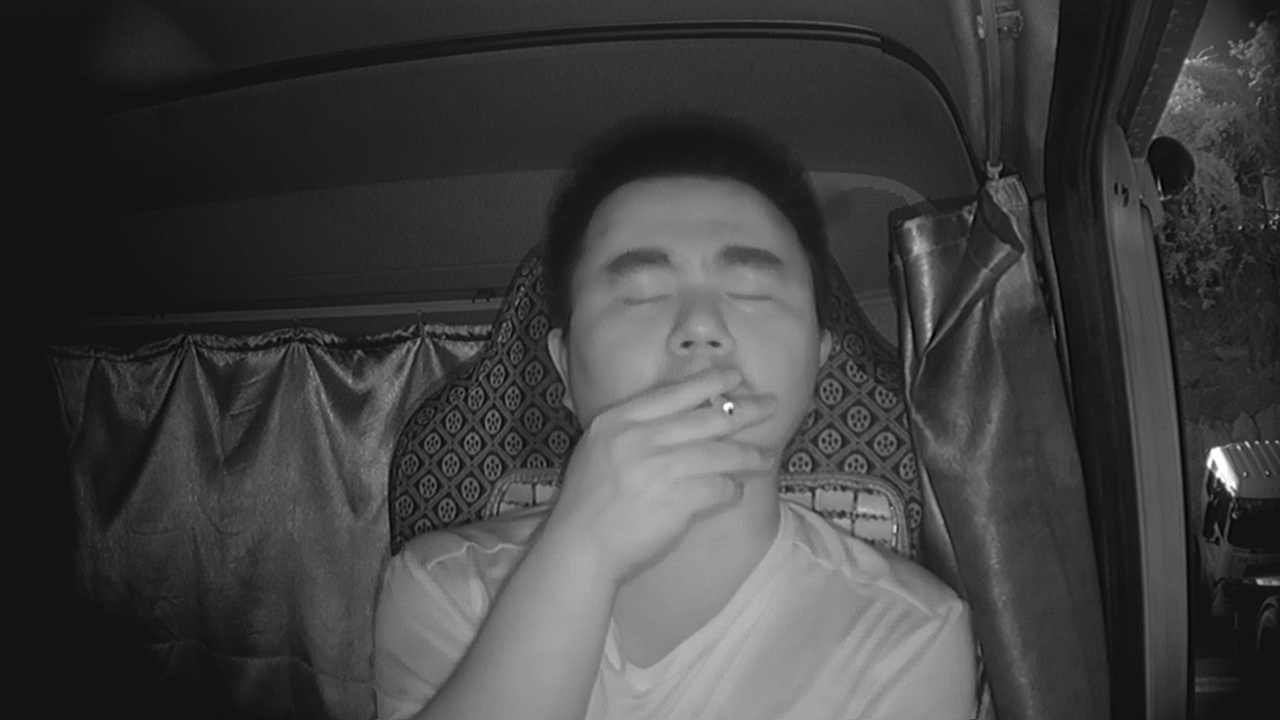hand: (565, 364, 771, 527)
